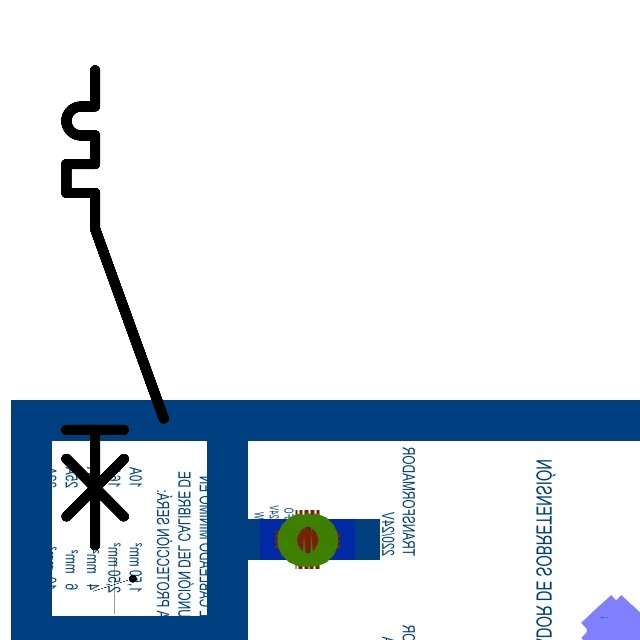interruptor_termomagnetico: (54, 58, 176, 557)
